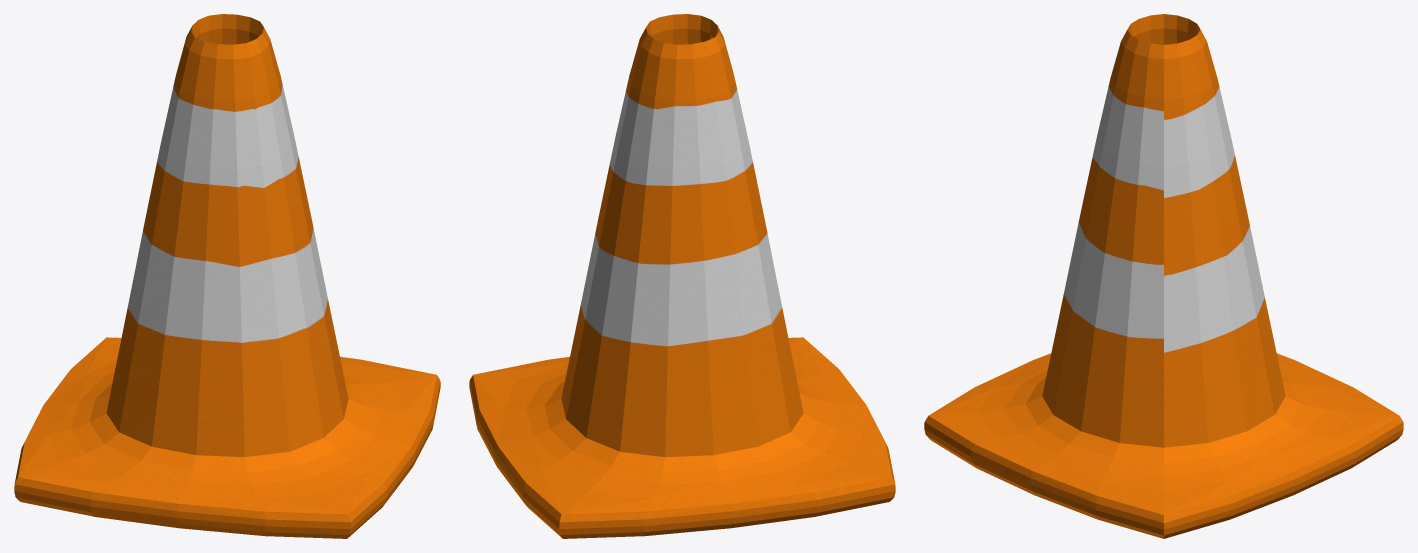
The picture shows the model from 3 angles, left to right: view 1: azimuth 30°, elevation 25°; view 2: azimuth 150°, elevation 25°; view 3: azimuth 270°, elevation 25°; orthographic projection. The views are drawn at different scales.
Visible parts, largest first — view 1: Traffic_cone; view 2: Traffic_cone; view 3: Traffic_cone.
Boxes of the visible parts, x1,y1,x2,y2 form: Traffic_cone: [14, 14, 440, 538]; Traffic_cone: [469, 14, 895, 538]; Traffic_cone: [924, 14, 1403, 538].
Bounding box in the file's own units: 0.4213 × 0.3985 × 0.4213.
Materials: 1 (1 with a texture image).
